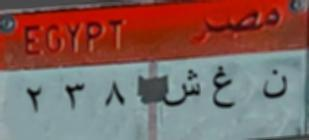2: (17, 82, 48, 119)
3: (62, 78, 94, 120)
8: (103, 74, 131, 119)
ghayn: (207, 64, 242, 117)
noon: (259, 66, 292, 104)
sheen: (161, 67, 203, 114)
